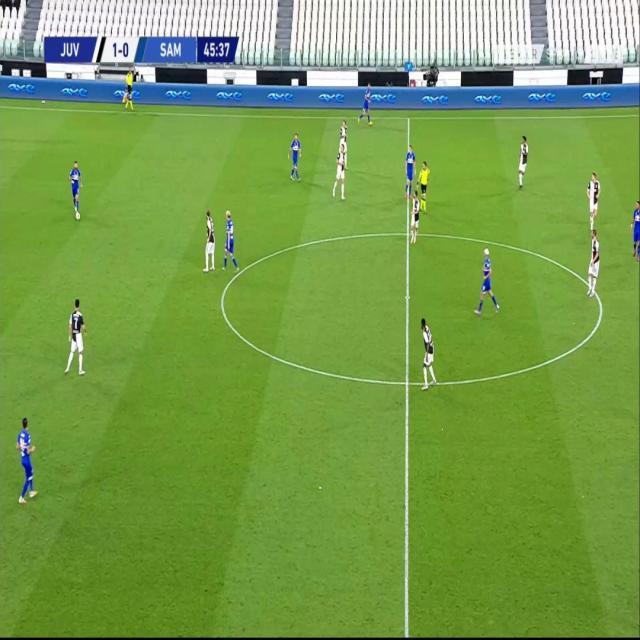ball: (74, 212, 81, 222)
player: (12, 417, 40, 503), (66, 298, 88, 379), (475, 247, 500, 316), (415, 318, 437, 392), (203, 210, 221, 272), (223, 209, 239, 275), (586, 231, 599, 299), (587, 169, 601, 231), (286, 132, 302, 184), (68, 161, 84, 212), (333, 144, 347, 201), (358, 82, 374, 127), (629, 198, 640, 262), (517, 135, 529, 189), (404, 145, 416, 199), (410, 191, 419, 246), (339, 120, 348, 170)
referee: (417, 161, 431, 213), (122, 67, 135, 114)
